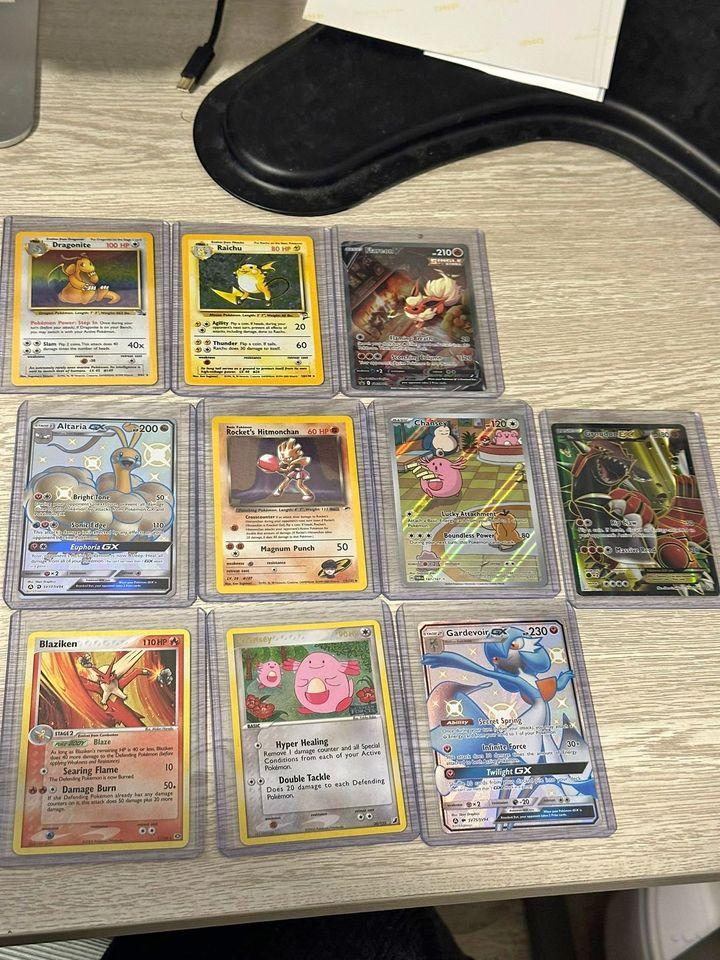card: (226, 618, 410, 848), (416, 615, 606, 837), (10, 627, 192, 855), (17, 414, 180, 601), (553, 422, 720, 597), (386, 415, 552, 589), (212, 415, 371, 596), (11, 232, 162, 387), (340, 241, 488, 393), (182, 233, 328, 386)
